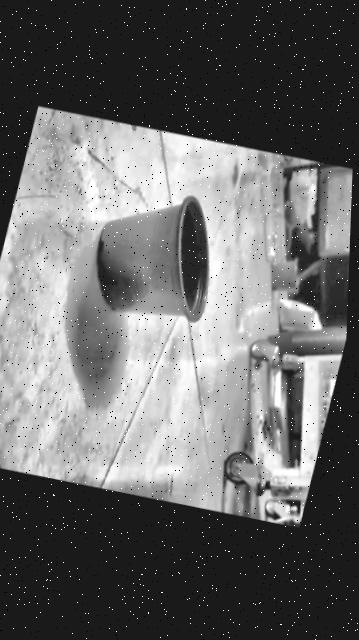pot: (81, 181, 229, 328)
